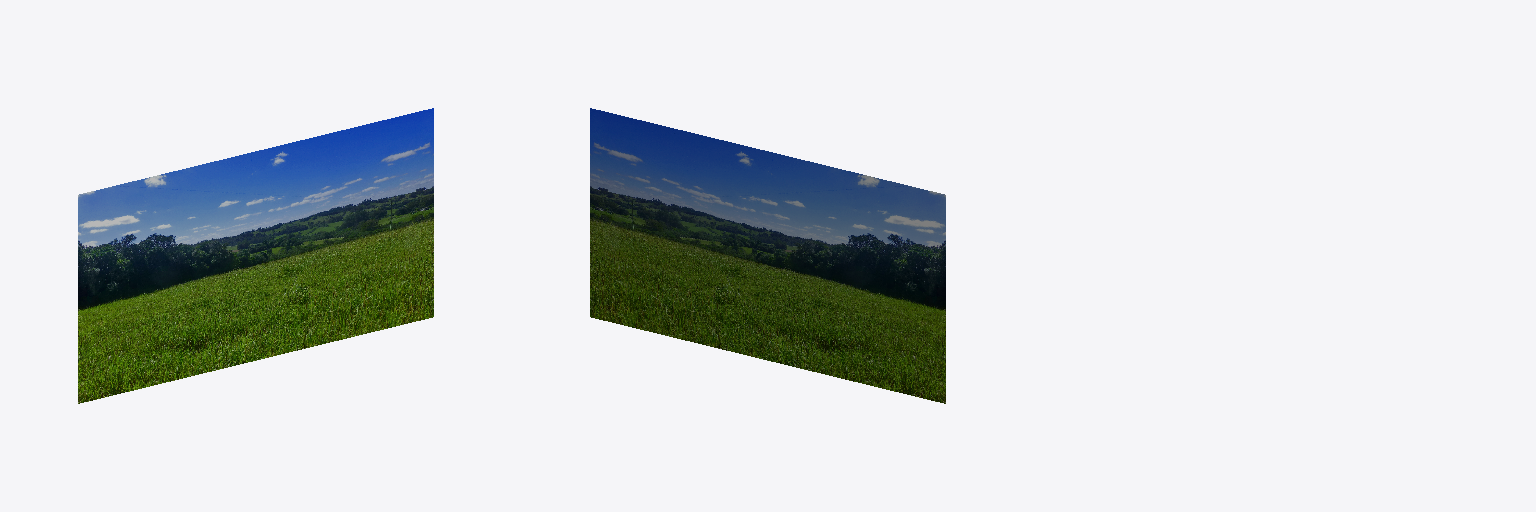
3 views of the same model, side by side, from view 1: azimuth 30°, elevation 25°; view 2: azimuth 150°, elevation 25°; view 3: azimuth 270°, elevation 25° (orthographic).
Parts seen in each view (by area): view 1: Paisagem_02(buena).001; view 2: Paisagem_02(buena).001; view 3: none.
Part boxes in pixels (x1,y1,x2,y2): Paisagem_02(buena).001: (78, 108, 433, 403); Paisagem_02(buena).001: (590, 108, 945, 403).
Bounding box in the file's own units: 1.78 × 1 × 0.
1 materials, 1 textured.